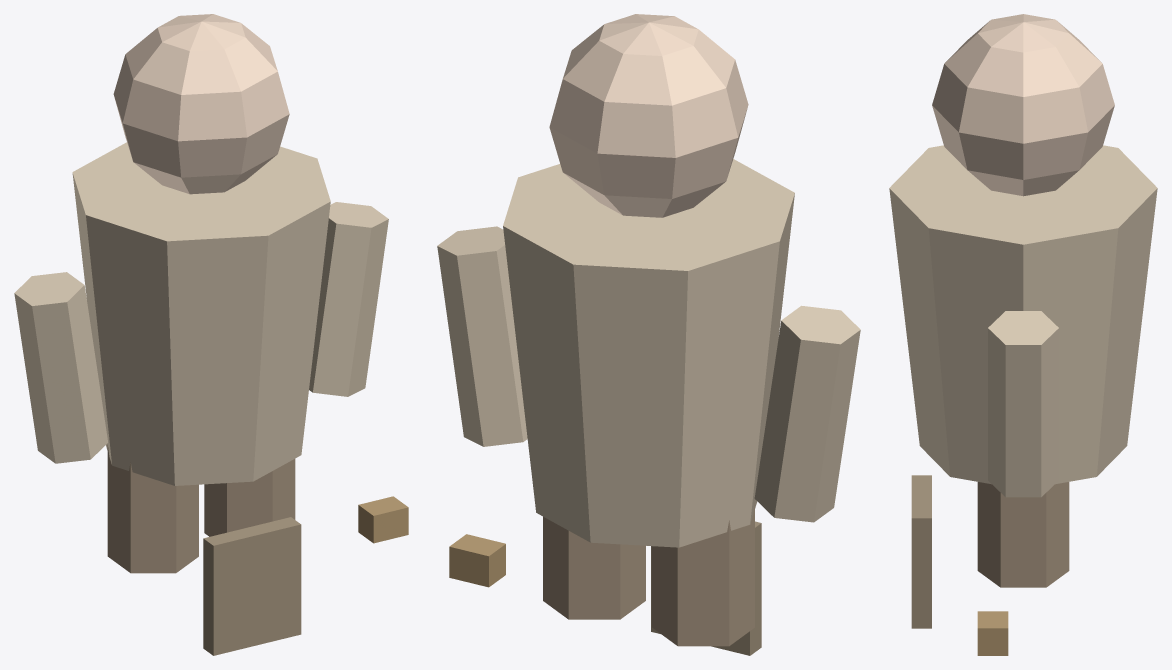
Rendered from toolmaker.glb.
The picture shows the model from 3 angles, left to right: view 1: azimuth 30°, elevation 25°; view 2: azimuth 150°, elevation 25°; view 3: azimuth 270°, elevation 25°; orthographic projection. The views are drawn at different scales.
Parts seen in each view (by area): view 1: toolmaker; view 2: toolmaker; view 3: toolmaker.
Part boxes in pixels (<box>): toolmaker: <box>14,14,408,655</box>; toolmaker: <box>437,14,860,655</box>; toolmaker: <box>889,14,1157,655</box>.
Bounding box in the file's own units: 0.4134 × 0.635 × 0.264.
